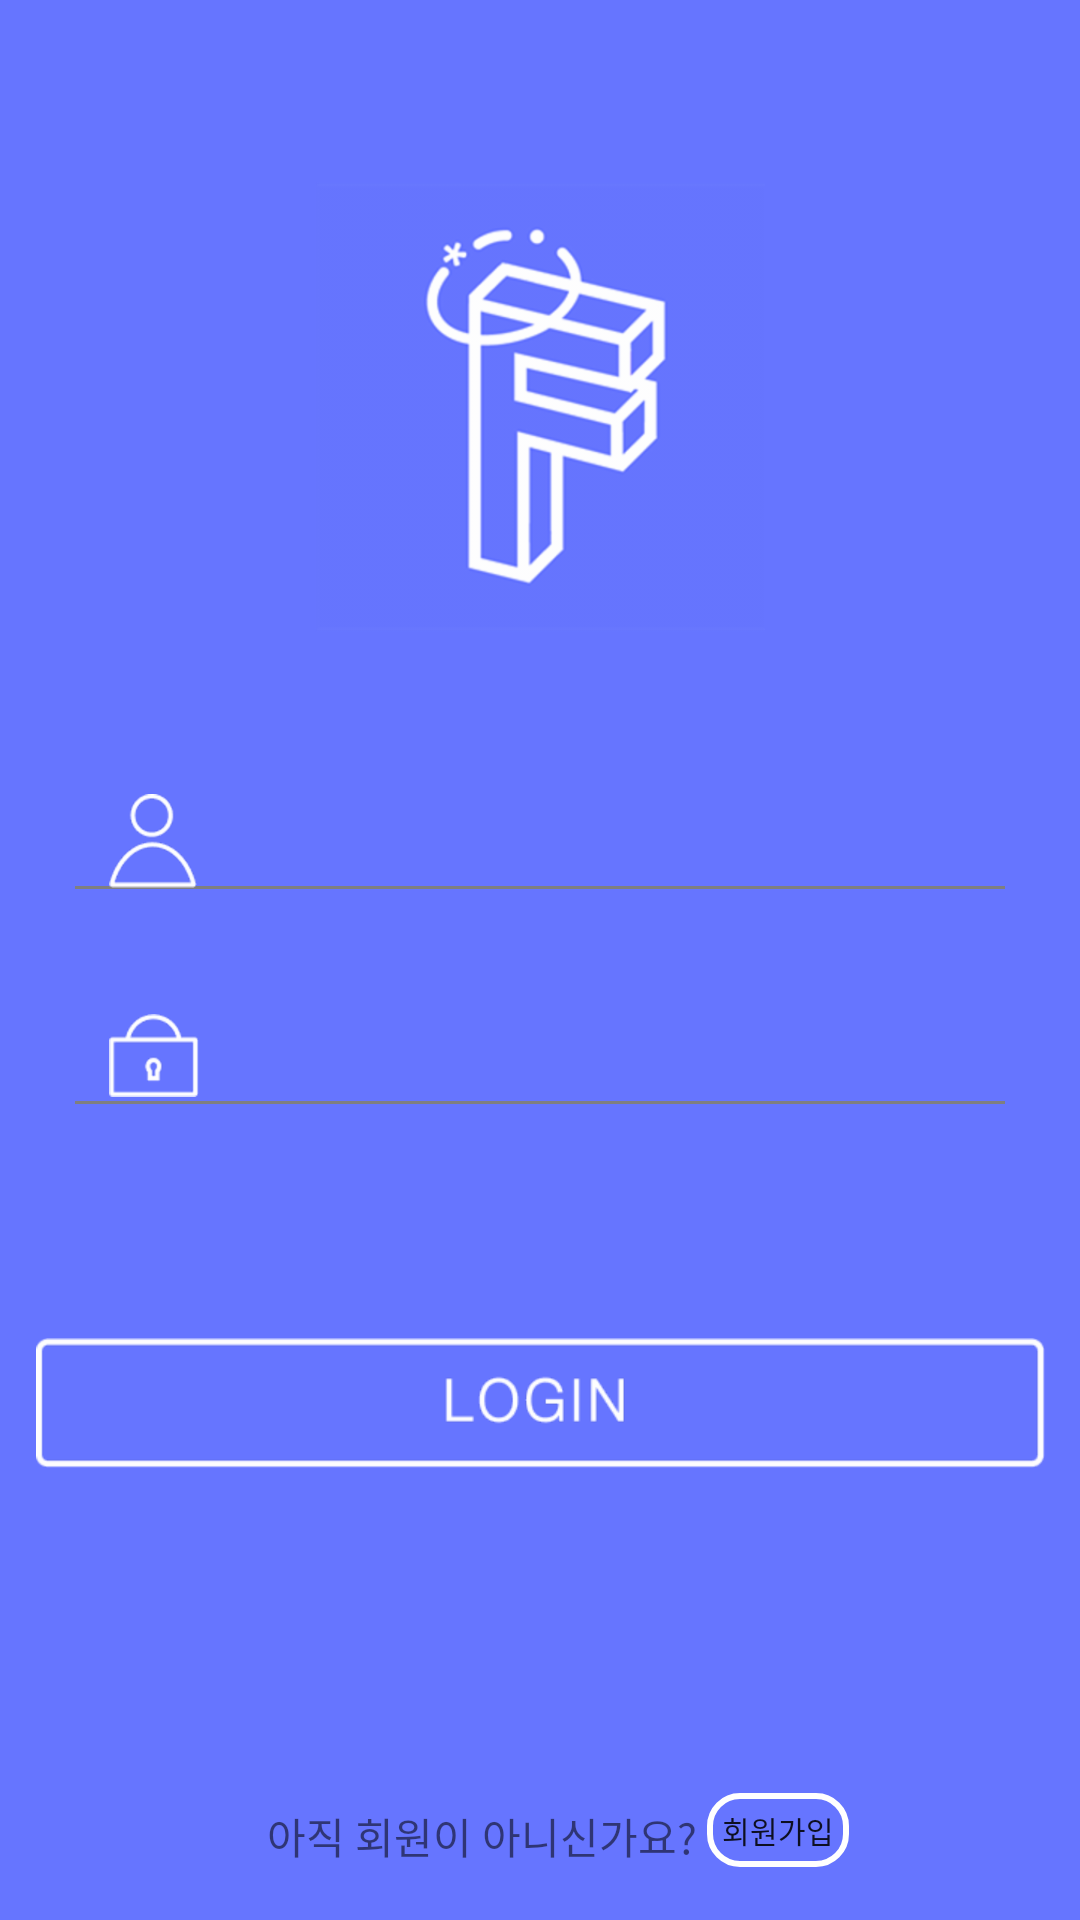

Screen size 1080px x 1920px. Icon name, then its center in pixels as [x,y]:
password: [153,1055]
